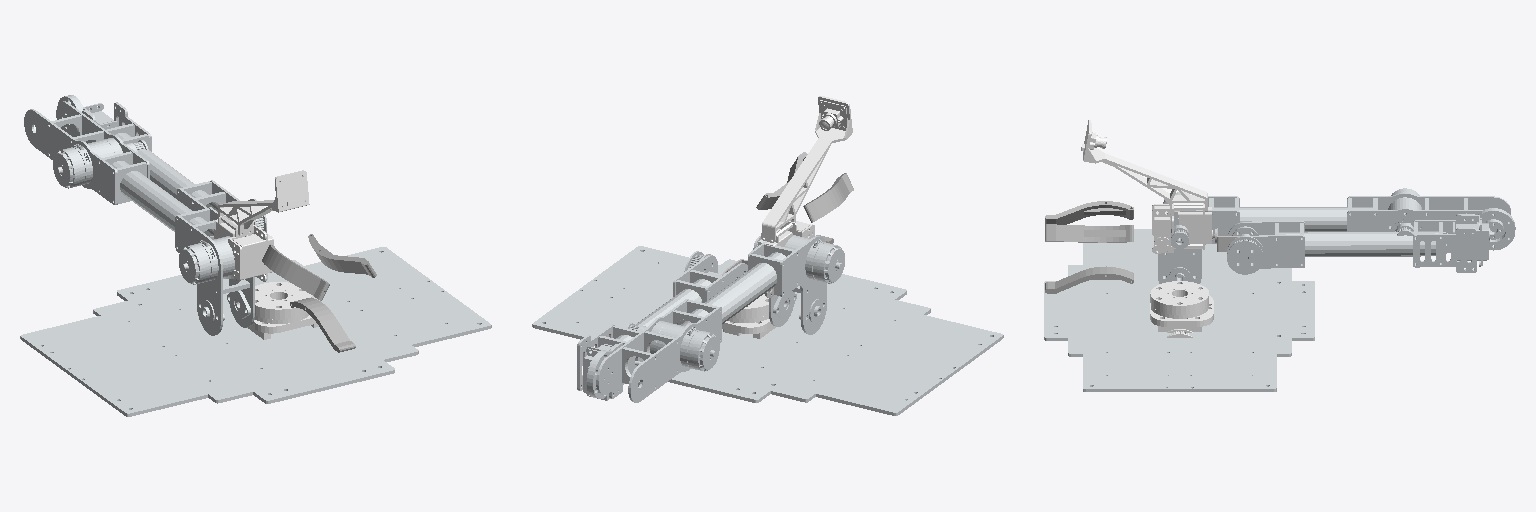
The robot description file, URDF, robot "explorer_arm_description":
<robot name="explorer_arm_description">
    <link name="base_link">
        
<inertial>
            <origin xyz="-1.14963978845132E-17 2.81283852810196E-16 -0.021" rpy="0 0 0" />
            <mass value="0.00457808589273548" />
            <inertia ixx="3.75944684702638E-07" ixy="-3.05505219716512E-22" ixz="1.91462529624083E-38" iyy="3.75944684702639E-07" iyz="2.29067520252043E-23" izz="7.48837312143454E-07" />
        </inertial>

        <visual>
            <origin xyz="0 0 0" rpy="0 0 0" />
            <geometry>
                <mesh filename="package://explorer_arm_description/meshes/base_link.STL" />
            </geometry>
            <material name="">
                <color rgba="0.898039215686275 0.917647058823529 0.929411764705882 1" />
            </material>
        </visual>
        <collision>
            <origin xyz="0 0 0" rpy="0 0 0" />
            <geometry>
                <mesh filename="package://explorer_arm_description/meshes/base_link.STL" />
            </geometry>
        </collision>
    </link>
    <link name="frame_link">
        
<inertial>
            <origin xyz="0.00559490486634598 0.00150970582414724 -0.00894794660551009" rpy="0 0 0" />
            <mass value="0.716022896559901" />
            <inertia ixx="0.000578336378382984" ixy="5.59588968848113E-06" ixz="0.000114049824805898" iyy="0.000767620726872662" iyz="1.12113576095402E-05" izz="0.000631424835005206" />
        </inertial>

        <visual>
            <origin xyz="0 0 0" rpy="0 0 0" />
            <geometry>
                <mesh filename="package://explorer_arm_description/meshes/frame_link.STL" />
            </geometry>
            <material name="">
                <color rgba="0.898039215686275 0.917647058823529 0.929411764705882 1" />
            </material>
        </visual>
        <collision>
            <origin xyz="0 0 0" rpy="0 0 0" />
            <geometry>
                <mesh filename="package://explorer_arm_description/meshes/frame_link.STL" />
            </geometry>
        </collision>
    </link>
    <joint name="arm1_bearing_joint" type="revolute">
        <origin xyz="0 0 -0.00445" rpy="3.1416 0 0" />
        <parent link="base_link" />
        <child link="frame_link" />
        <axis xyz="0 0 -1" />
        <limit lower="-3.14" upper="3.14" effort="0" velocity="0" />
    </joint>
    <link name="arm1_link">
        
<inertial>
            <origin xyz="-0.030256073197873 -0.218404437711336 -0.00678099233284524" rpy="0 0 0" />
            <mass value="0.479583183491115" />
            <inertia ixx="0.00882781622879315" ixy="-0.000187284179146167" ixz="6.10593439878394E-06" iyy="0.00044086181185441" iyz="-0.000436585425673148" izz="0.00890397904623876" />
        </inertial>

        <visual>
            <origin xyz="0 0 0" rpy="0 0 0" />
            <geometry>
                <mesh filename="package://explorer_arm_description/meshes/arm1_link.STL" />
            </geometry>
            <material name="">
                <color rgba="1 1 1 1" />
            </material>
        </visual>
        <collision>
            <origin xyz="0 0 0" rpy="0 0 0" />
            <geometry>
                <mesh filename="package://explorer_arm_description/meshes/arm1_link.STL" />
            </geometry>
        </collision>
    </link>
    <joint name="arm2_arm1_joint" type="revolute">
        <origin xyz="0.02825 0 -0.03945" rpy="0 0 0" />
        <parent link="frame_link" />
        <child link="arm1_link" />
        <axis xyz="1 0 0" />
        <limit lower="0" upper="3.14" effort="0" velocity="0" />
    </joint>
    <link name="arm2_link">
        
<inertial>
            <origin xyz="0.0230773036840093 0.149425363539173 0.000604367411549275" rpy="0 0 0" />
            <mass value="0.30183860324329" />
            <inertia ixx="0.00395332130818091" ixy="0.000223811751955492" ixz="9.29033202084006E-07" iyy="0.000127298943344165" iyz="-1.61739996059228E-05" izz="0.00399281590647534" />
        </inertial>

        <visual>
            <origin xyz="0 0 0" rpy="0 0 0" />
            <geometry>
                <mesh filename="package://explorer_arm_description/meshes/arm2_link.STL" />
            </geometry>
            <material name="">
                <color rgba="0.898039215686275 0.917647058823529 0.929411764705882 1" />
            </material>
        </visual>
        <collision>
            <origin xyz="0 0 0" rpy="0 0 0" />
            <geometry>
                <mesh filename="package://explorer_arm_description/meshes/arm2_link.STL" />
            </geometry>
        </collision>
    </link>
    <joint name="arm3_arm2_joint" type="revolute">
        <origin xyz="-0.039 -0.373 -0.065" rpy="0 0 0" />
        <parent link="arm1_link" />
        <child link="arm2_link" />
        <axis xyz="1 0 0" />
        <limit lower="-3.14" upper="0" effort="0" velocity="0" />
    </joint>
    <link name="arm3_link">
        
<inertial>
            <origin xyz="-0.00118377613278603 0.0127242561694025 -1.03698886144699E-08" rpy="0 0 0" />
            <mass value="0.0133110522817061" />
            <inertia ixx="2.66534640068597E-06" ixy="3.03729771047956E-07" ixz="5.3597822918578E-14" iyy="7.5510488466004E-06" iyz="-4.40040710512394E-14" izz="9.31485111150368E-06" />
        </inertial>

        <visual>
            <origin xyz="0 0 0" rpy="0 0 0" />
            <geometry>
                <mesh filename="package://explorer_arm_description/meshes/arm3_link.STL" />
            </geometry>
            <material name="">
                <color rgba="0.898039215686275 0.917647058823529 0.929411764705882 1" />
            </material>
        </visual>
        <collision>
            <origin xyz="0 0 0" rpy="0 0 0" />
            <geometry>
                <mesh filename="package://explorer_arm_description/meshes/arm3_link.STL" />
            </geometry>
        </collision>
    </link>
    <joint name="pt1_arm_joint" type="revolute">
        <origin xyz="0.017 0.29626 0.011099" rpy="0.0037086 1.0942E-15 1.7071E-16" />
        <parent link="arm2_link" />
        <child link="arm3_link" />
        <axis xyz="0 1 0" />
        <limit lower="-1.57" upper="1.57" effort="0" velocity="0" />
    </joint>
    <link name="pt1_link">
        
<inertial>
            <origin xyz="-0.0287860620577726 0.0198349840783305 0.0104187700658996" rpy="0 0 0" />
            <mass value="0.190957920799585" />
            <inertia ixx="0.000120203865437709" ixy="5.73630953543711E-06" ixz="3.14815226838004E-07" iyy="5.39172768700252E-05" iyz="-1.62075460996372E-06" izz="0.000102218995335893" />
        </inertial>

        <visual>
            <origin xyz="0 0 0" rpy="0 0 0" />
            <geometry>
                <mesh filename="package://explorer_arm_description/meshes/pt1_link.STL" />
            </geometry>
            <material name="">
                <color rgba="0.847058823529412 0.847058823529412 0.847058823529412 1" />
            </material>
        </visual>
        <collision>
            <origin xyz="0 0 0" rpy="0 0 0" />
            <geometry>
                <mesh filename="package://explorer_arm_description/meshes/pt1_link.STL" />
            </geometry>
        </collision>
    </link>
    <joint name="pt2_pt1_joint" type="revolute">
        <origin xyz="-0.026 0.032 0" rpy="-3.1416 1.3107E-15 -3.1416" />
        <parent link="arm3_link" />
        <child link="pt1_link" />
        <axis xyz="-1 0 0" />
        <limit lower="-0.84" upper="2.3" effort="0" velocity="0" />
    </joint>
    <link name="pt2_link">
        
<inertial>
            <origin xyz="1.81733767340431E-08 0.0284332582396072 0.00838368444932995" rpy="0 0 0" />
            <mass value="0.121273870412237" />
            <inertia ixx="5.33407624342047E-05" ixy="-3.21763614682469E-14" ixz="-9.75559373818246E-14" iyy="4.14185140311325E-05" iyz="2.67391767402412E-06" izz="3.25618639639074E-05" />
        </inertial>

        <visual>
            <origin xyz="0 0 0" rpy="0 0 0" />
            <geometry>
                <mesh filename="package://explorer_arm_description/meshes/pt2_link.STL" />
            </geometry>
            <material name="">
                <color rgba="1 1 1 1" />
            </material>
        </visual>
        <collision>
            <origin xyz="0 0 0" rpy="0 0 0" />
            <geometry>
                <mesh filename="package://explorer_arm_description/meshes/pt2_link.STL" />
            </geometry>
        </collision>
    </link>
    <joint name="rotate_joint" type="revolute">
        <origin xyz="-0.0303 0.0658 0.001" rpy="-1.053E-15 3.3847E-15 3.4383E-16" />
        <parent link="pt1_link" />
        <child link="pt2_link" />
        <axis xyz="0 1 0" />
        <limit lower="-1.57" upper="1.57" effort="0" velocity="0" />
    </joint>
    <link name="finger1_link">
        
<inertial>
            <origin xyz="-0.0100000082922938 -0.0505035464250828 3.62295665359558E-05" rpy="0 0 0" />
            <mass value="0.0145139008286365" />
            <inertia ixx="1.43204567924489E-05" ixy="1.30348121339267E-12" ixz="4.93976689182295E-13" iyy="1.17474129406709E-06" iyz="-2.51192020242968E-06" izz="1.40208598734018E-05" />
        </inertial>

        <visual>
            <origin xyz="0 0 0" rpy="0 0 0" />
            <geometry>
                <mesh filename="package://explorer_arm_description/meshes/finger1_link.STL" />
            </geometry>
            <material name="">
                <color rgba="0.752941176470588 0.752941176470588 0.752941176470588 1" />
            </material>
        </visual>
        <collision>
            <origin xyz="0 0 0" rpy="0 0 0" />
            <geometry>
                <mesh filename="package://explorer_arm_description/meshes/finger1_link.STL" />
            </geometry>
        </collision>
    </link>
    <joint name="finger1_finger2_joint" type="revolute">
        <origin xyz="0.028775 0.03635 0.02816" rpy="-2.4026E-15 -1.0472 -3.1416" />
        <parent link="pt2_link" />
        <child link="finger1_link" />
        <axis xyz="1 0 0" />
        <limit lower="-0.314" upper="0.1396" effort="0" velocity="0" />
    </joint>
    <link name="finger2_link">
        
<inertial>
            <origin xyz="-0.00999999999999877 -0.0491989260888196 -0.00026592383553746" rpy="0 0 0" />
            <mass value="0.0142516570501078" />
            <inertia ixx="1.29061026399682E-05" ixy="5.37630490293812E-22" ixz="4.25953225359251E-23" iyy="1.132832921293E-06" iyz="2.27545016132448E-06" izz="1.26481195573146E-05" />
        </inertial>

        <visual>
            <origin xyz="0 0 0" rpy="0 0 0" />
            <geometry>
                <mesh filename="package://explorer_arm_description/meshes/finger2_link.STL" />
            </geometry>
            <material name="">
                <color rgba="0.752941176470588 0.752941176470588 0.752941176470588 1" />
            </material>
        </visual>
        <collision>
            <origin xyz="0 0 0" rpy="0 0 0" />
            <geometry>
                <mesh filename="package://explorer_arm_description/meshes/finger2_link.STL" />
            </geometry>
        </collision>
    </link>
    <joint name="finger2_finger3_joint" type="revolute">
        <origin xyz="-0.01 0.03635 -0.039" rpy="-1.2013E-15 2.6737E-15 3.1416" />
        <parent link="pt2_link" />
        <child link="finger2_link" />
        <axis xyz="1 0 0" />
        <limit lower="-0.1396" upper="0.314" effort="0" velocity="0" />
    </joint>
    <link name="finger3_link">
        
<inertial>
            <origin xyz="-0.0100000102765049 -0.049198926110664 -0.000265918075369229" rpy="0 0 0" />
            <mass value="0.0142516570501078" />
            <inertia ixx="1.29061026399682E-05" ixy="-5.76772361617912E-21" ixz="3.30584024276525E-21" iyy="1.132832921293E-06" iyz="2.27545016132448E-06" izz="1.26481195573146E-05" />
        </inertial>

        <visual>
            <origin xyz="0 0 0" rpy="0 0 0" />
            <geometry>
                <mesh filename="package://explorer_arm_description/meshes/finger3_link.STL" />
            </geometry>
            <material name="">
                <color rgba="0.752941176470588 0.752941176470588 0.752941176470588 1" />
            </material>
        </visual>
        <collision>
            <origin xyz="0 0 0" rpy="0 0 0" />
            <geometry>
                <mesh filename="package://explorer_arm_description/meshes/finger3_link.STL" />
            </geometry>
        </collision>
    </link>
    <joint name="finger3_joint" type="revolute">
        <origin xyz="-0.028775 0.03635 0.02816" rpy="-3.1416 -1.0472 -2.3211E-15" />
        <parent link="pt2_link" />
        <child link="finger3_link" />
        <axis xyz="1 0 0" />
        <limit lower="-0.1396" upper="0.314" effort="0" velocity="0" />
    </joint>
    <link name="gripper_link"/>
    <joint name="gripper_joint" type="fixed">
        <origin xyz="0.08 0 0" rpy="0 0 0" />
        <parent link="pt2_link" />
        <child link="gripper_link" />
        <limit lower="0.94" upper="1.88" effort="0" velocity="0" />
    </joint>
</robot>


--- Render facts (derived) ---
Views: 3 orthographic renders of the robot side by side, from view 1: azimuth 30°, elevation 25°; view 2: azimuth 150°, elevation 25°; view 3: azimuth 270°, elevation 25°.
Robot: explorer_arm_description — 11 links, 10 joints (9 revolute, 1 fixed); root link base_link; default pose: all joints at 0.
Links seen in each view (by area): view 1: base_link, arm2_link, pt2_link, arm3_link, arm1_link, finger1_link, finger2_link, finger3_link; view 2: base_link, arm2_link, pt2_link, arm3_link, arm1_link, finger1_link; view 3: base_link, arm2_link, arm3_link, pt2_link, arm1_link, finger3_link, finger1_link, finger2_link.
Boxes of the visible links, x1=… form: base_link: x1=20, y1=247, x2=491, y2=416; arm2_link: x1=24, y1=95, x2=254, y2=335; pt2_link: x1=214, y1=170, x2=309, y2=281; arm3_link: x1=82, y1=102, x2=266, y2=233; arm1_link: x1=248, y1=282, x2=318, y2=339; finger1_link: x1=262, y1=244, x2=329, y2=300; finger2_link: x1=290, y1=298, x2=355, y2=352; finger3_link: x1=308, y1=234, x2=376, y2=277; base_link: x1=532, y1=246, x2=1003, y2=415; arm2_link: x1=586, y1=235, x2=844, y2=402; pt2_link: x1=758, y1=96, x2=852, y2=246; arm3_link: x1=577, y1=251, x2=747, y2=400; arm1_link: x1=722, y1=294, x2=775, y2=338; finger1_link: x1=803, y1=173, x2=853, y2=222; base_link: x1=1044, y1=229, x2=1314, y2=391; arm2_link: x1=1158, y1=188, x2=1515, y2=283; arm3_link: x1=1227, y1=214, x2=1493, y2=274; pt2_link: x1=1081, y1=120, x2=1212, y2=253; arm1_link: x1=1150, y1=281, x2=1213, y2=337; finger3_link: x1=1045, y1=224, x2=1133, y2=242; finger1_link: x1=1045, y1=201, x2=1133, y2=224; finger2_link: x1=1045, y1=266, x2=1133, y2=293.
Size in the robot's own frame: 0.45 by 0.56 by 0.2885 metres.
Meshes: 10 distinct files referenced, 9 mesh visuals loaded (9 binary STL); not drawn: 1 (reference not matched to a file when rendering).